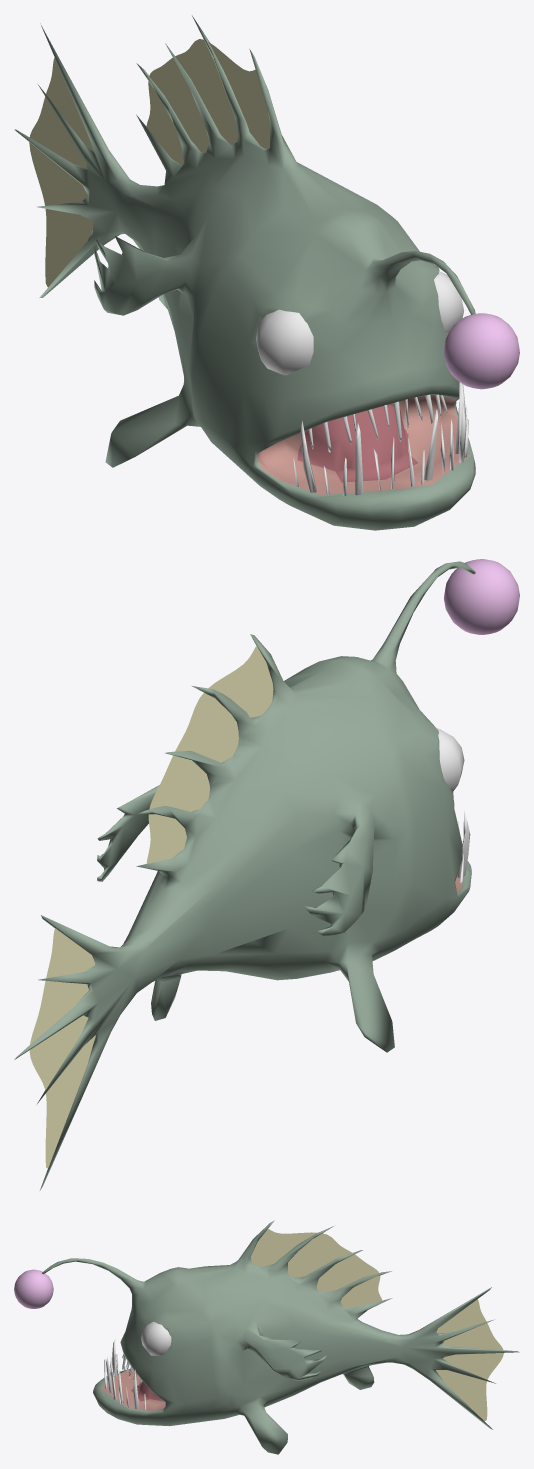
The model's file is footBallFish.fbx.
3 views of the same model, one above another, from view 1: azimuth 30°, elevation 25°; view 2: azimuth 150°, elevation 25°; view 3: azimuth 270°, elevation 25° (orthographic). The views are drawn at different scales.
Parts seen in each view (by area): view 1: Body, Webbing, Sphere.002, Teeth_Bottom, Sphere.001, Teeth_Top, Sphere; view 2: Body, Webbing, Sphere.002, Sphere.001; view 3: Body, Webbing, Sphere.002, Teeth_Bottom, Sphere.
Boxes of the visible parts, x1,y1,x2,y2 form: Body: (14, 15, 475, 530); Webbing: (29, 39, 270, 287); Sphere.002: (444, 313, 519, 389); Teeth_Bottom: (293, 382, 468, 495); Sphere.001: (256, 309, 313, 375); Teeth_Top: (308, 394, 447, 452); Sphere: (434, 271, 464, 332); Body: (14, 561, 475, 1190); Webbing: (29, 646, 273, 1168); Sphere.002: (444, 559, 519, 634); Sphere.001: (435, 727, 464, 792); Body: (42, 1220, 519, 1454); Webbing: (250, 1229, 503, 1420); Sphere.002: (14, 1269, 53, 1308); Teeth_Bottom: (104, 1339, 146, 1410); Sphere: (141, 1321, 171, 1356).
Size of the model in its own units: 851 by 1164 by 2544.
